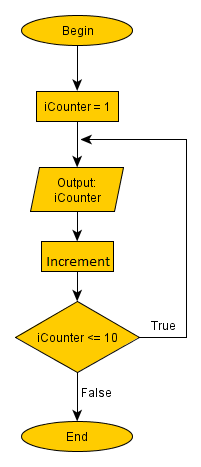arrow: (79, 134, 190, 340), (71, 121, 84, 168), (71, 46, 84, 92), (72, 369, 83, 421), (69, 211, 82, 240), (71, 273, 82, 302)
data: (27, 164, 127, 215)
decision: (15, 301, 141, 372)
process: (33, 89, 122, 124), (38, 238, 117, 275)
terminator: (18, 13, 136, 48), (19, 419, 136, 454)
text: (48, 175, 103, 206), (42, 97, 110, 114), (34, 330, 122, 343), (43, 254, 112, 267), (59, 23, 96, 40), (80, 386, 115, 399), (64, 429, 91, 443), (150, 318, 177, 331)
